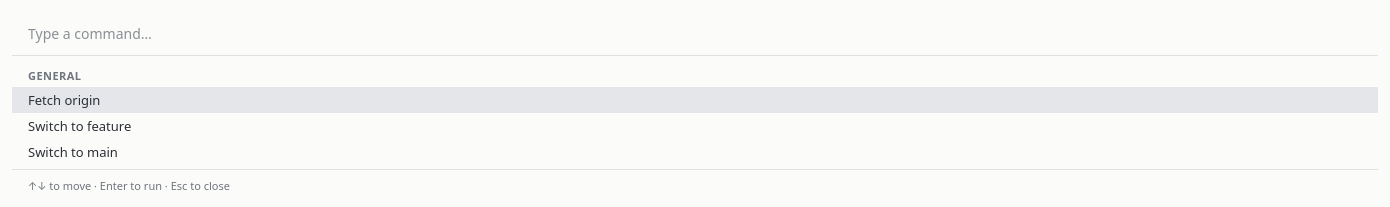
Test: CommandPalette › filters as the user types
The width and height of the screenshot is (1390, 207).
Type "fetch" into the dropdown at coordinates (695, 34), box [12, 12, 1378, 56]
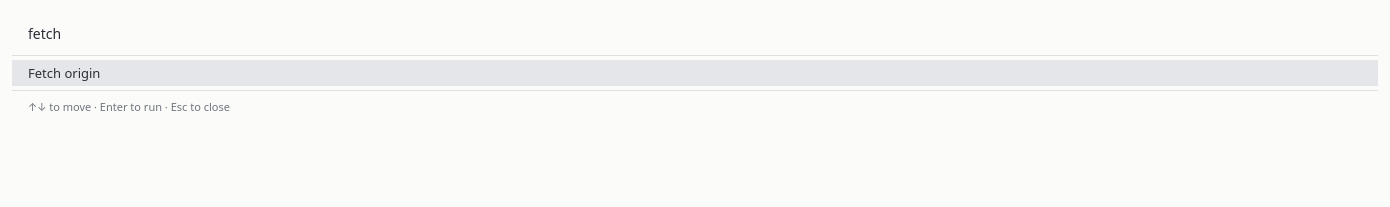
Expected: the option "Fetch origin" is shown, [12, 60, 1378, 86]
Expected: the option "Switch to main" is gone
